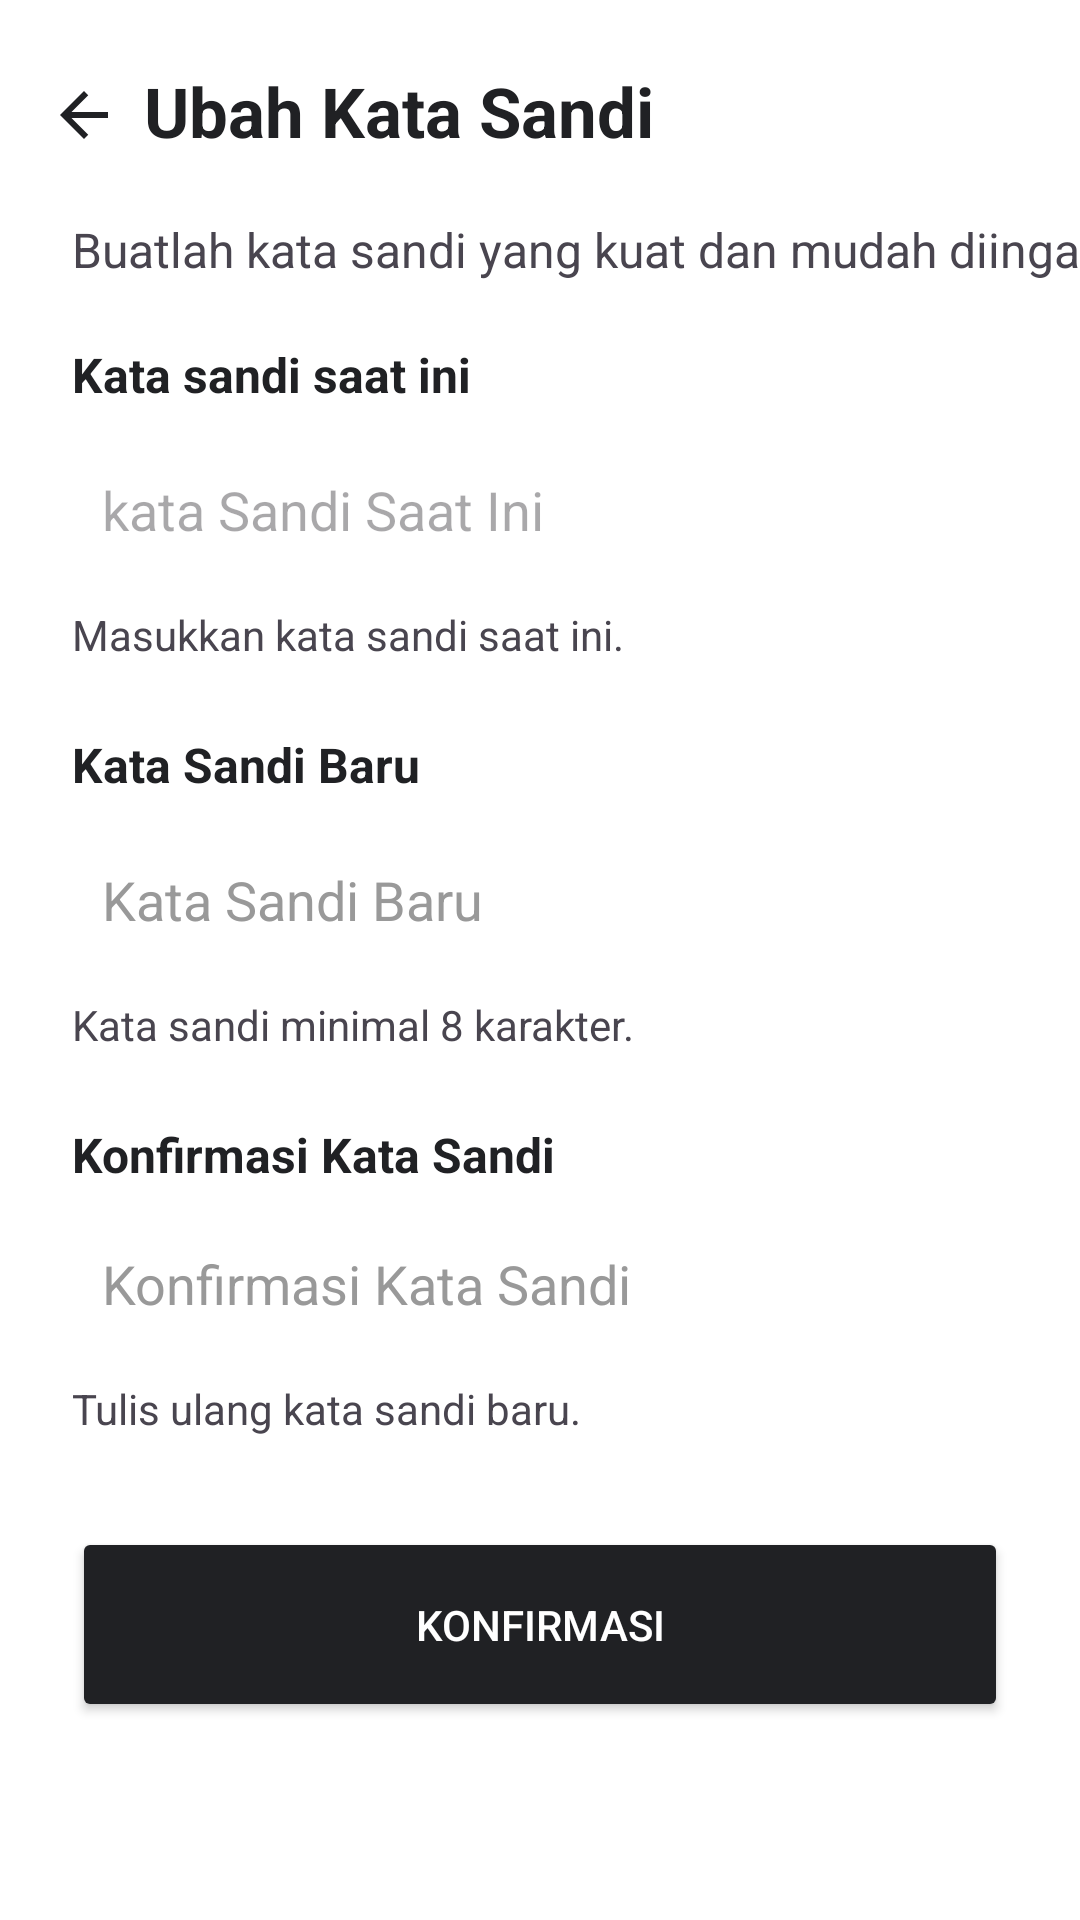

Icon click points for this 1080w x 1920h phone screenshot, format [x,y]:
Back: [84,115]
